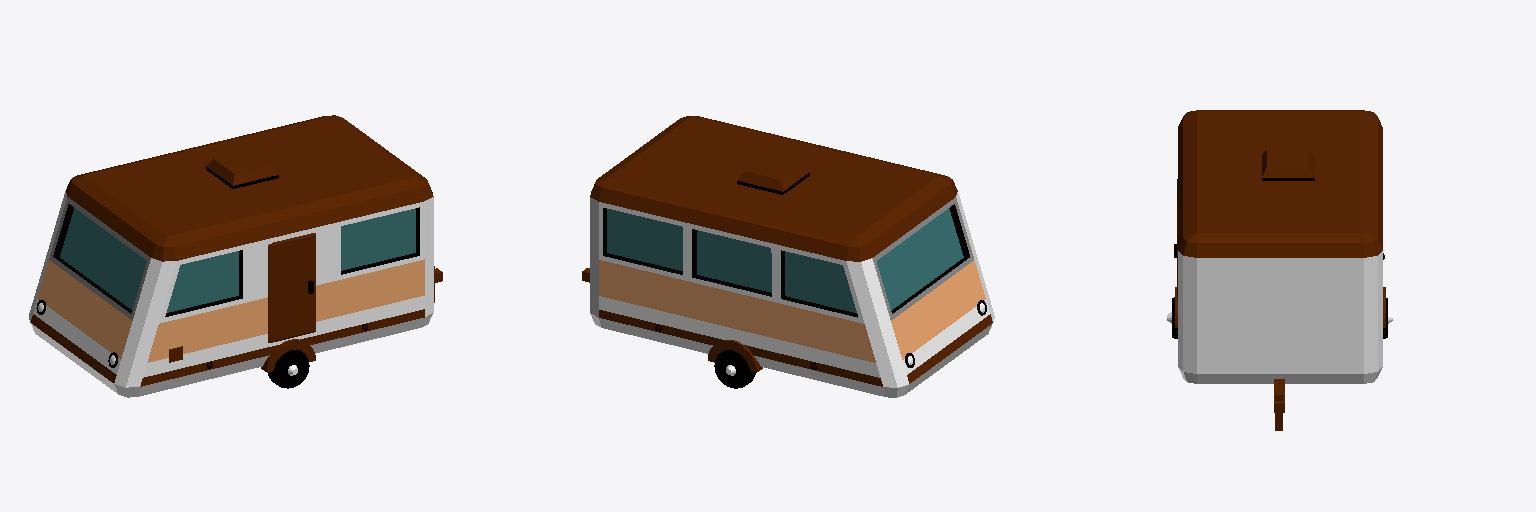
The model's file is Caravan_1378.obj.
3 renders of one model, left to right at view 1: azimuth 30°, elevation 25°; view 2: azimuth 150°, elevation 25°; view 3: azimuth 270°, elevation 25°, orthographic.
Visible parts, largest first — view 1: ChamferBox001; view 2: ChamferBox001; view 3: ChamferBox001.
Boxes of the visible parts, x1,y1,x2,y2 form: ChamferBox001: [29, 115, 442, 397]; ChamferBox001: [582, 116, 994, 397]; ChamferBox001: [1167, 110, 1392, 430].
Bounding box in the file's own units: 80.09 × 38.91 × 42.75.